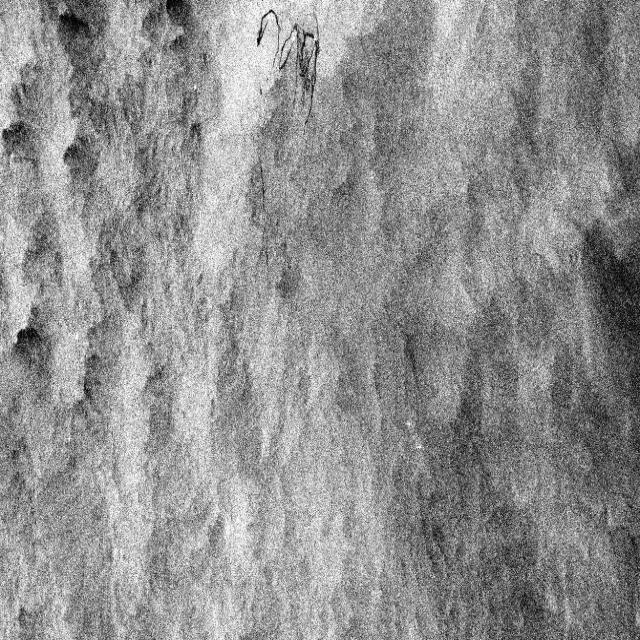look-alike: (578, 199, 640, 427), (140, 3, 212, 99), (93, 210, 156, 317), (46, 3, 107, 95), (393, 325, 430, 436), (9, 312, 54, 395), (56, 124, 106, 198), (75, 352, 112, 449), (2, 109, 40, 177), (183, 116, 208, 147)
oil-spill: (252, 4, 328, 135), (243, 159, 278, 280)
